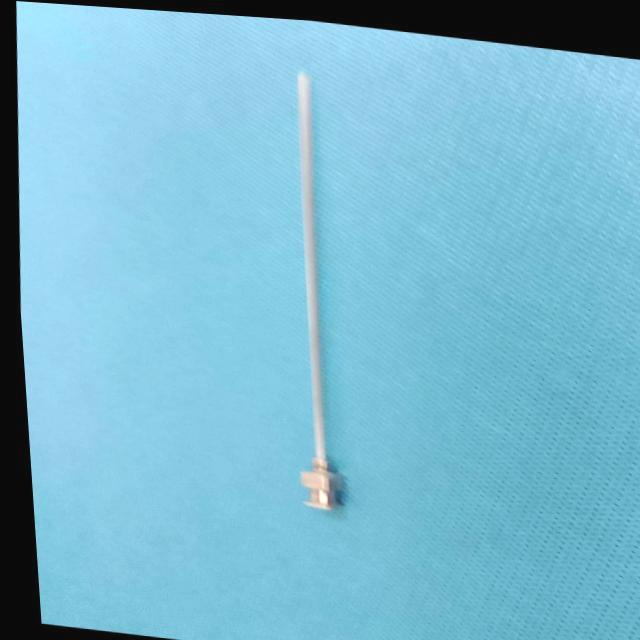Pathological: (14, 3, 638, 639)
Sharps: (294, 70, 339, 511)
